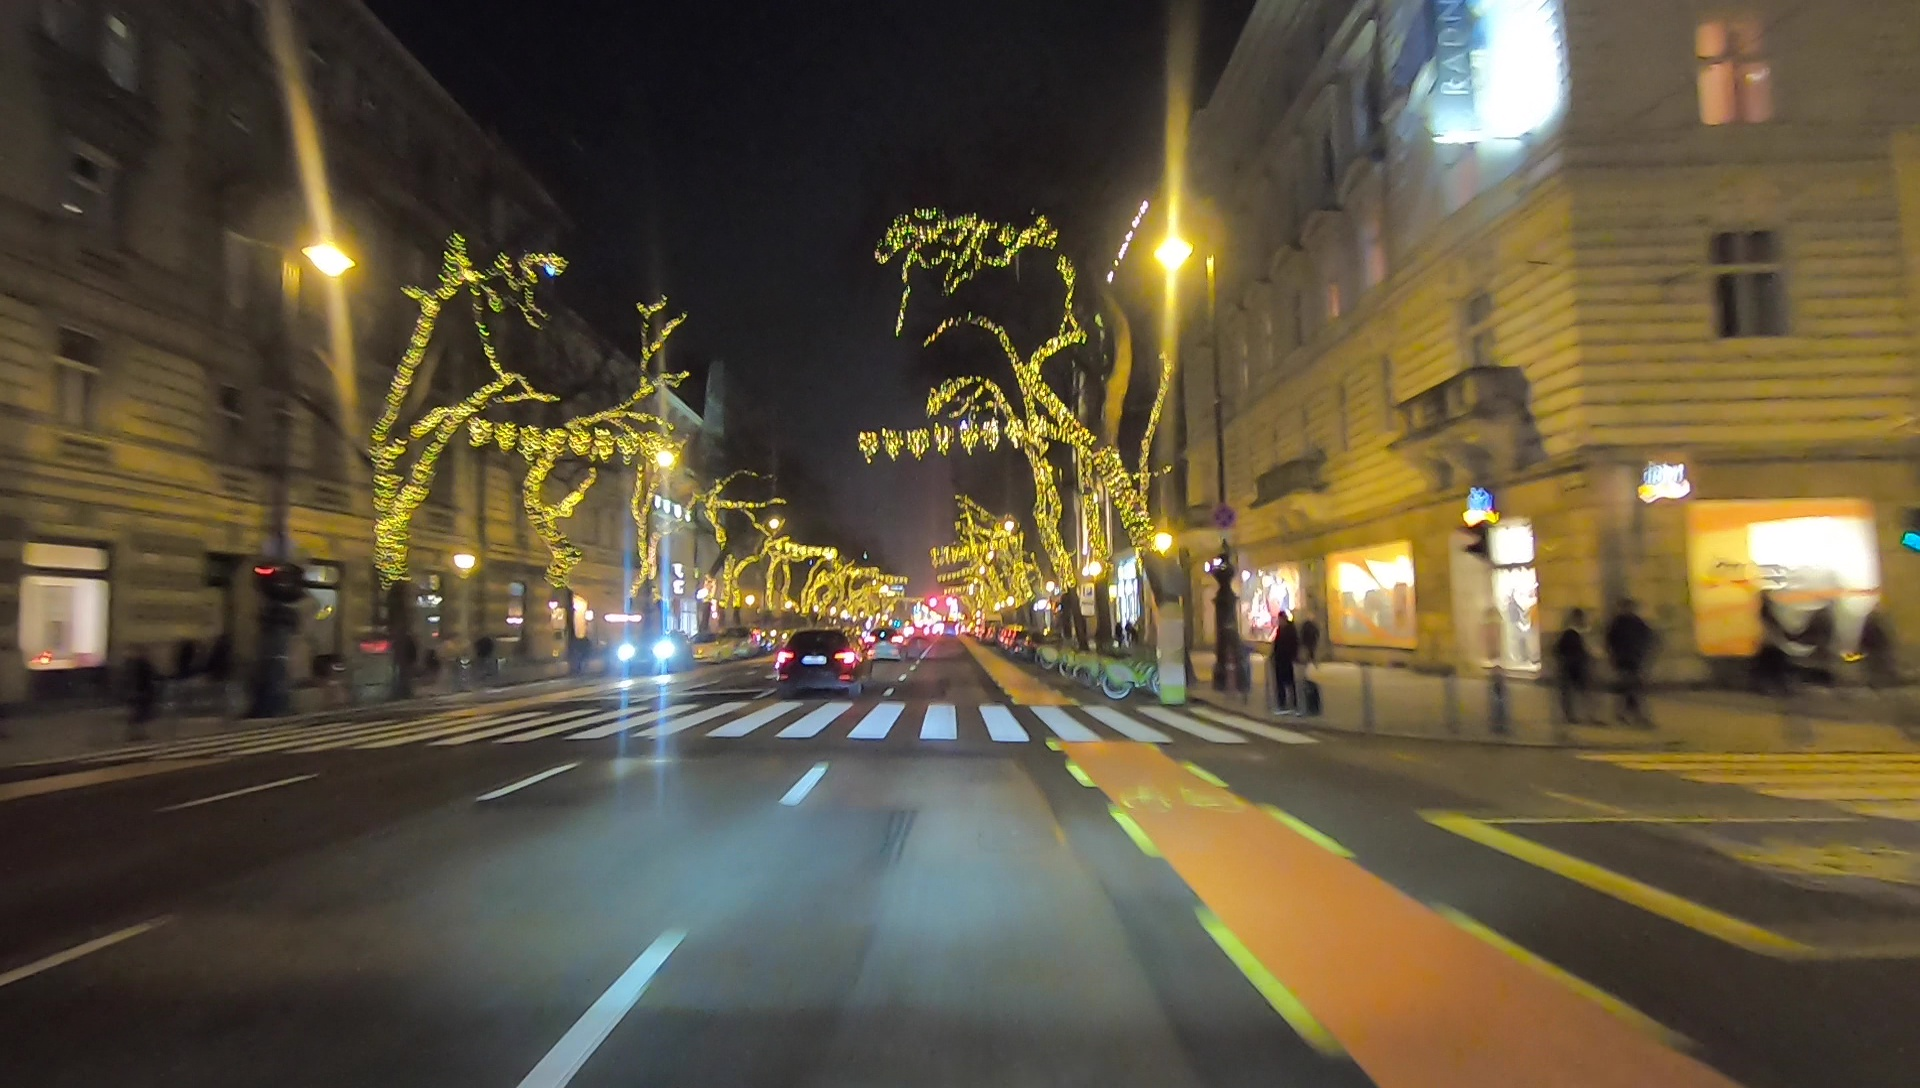person: (1610, 602, 1662, 743), (1552, 617, 1597, 737), (1267, 613, 1299, 713)
